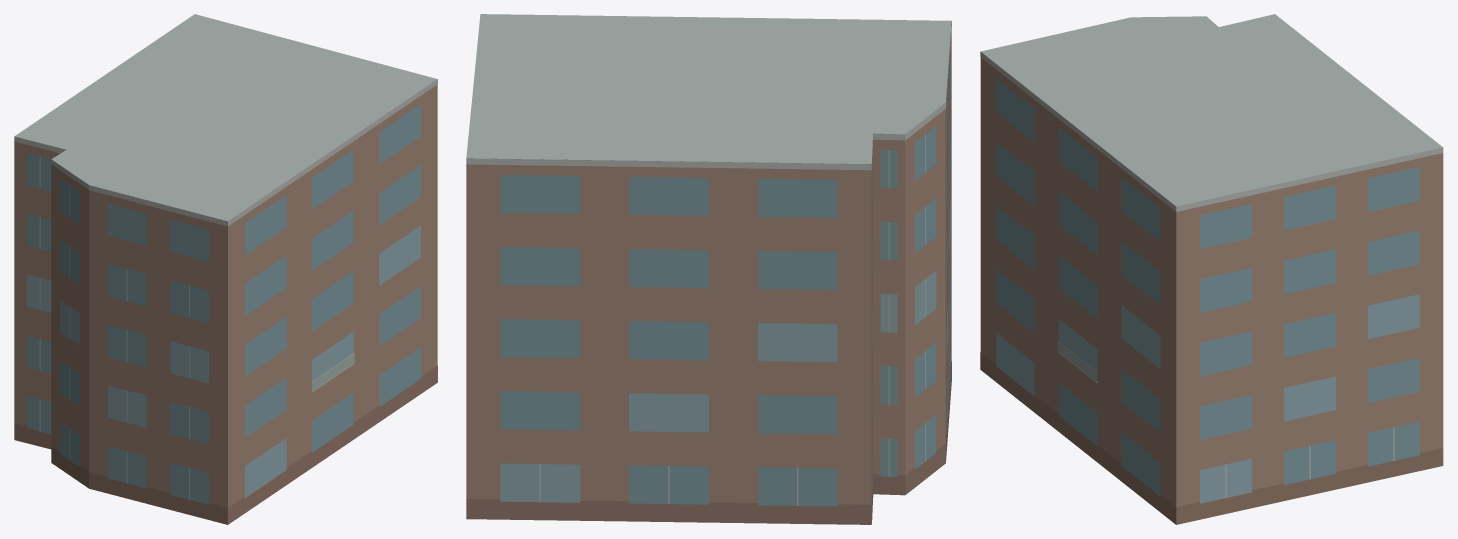
File: survey-upis-32745861.glb
3 renders of one model, left to right at view 1: azimuth 30°, elevation 25°; view 2: azimuth 150°, elevation 25°; view 3: azimuth 270°, elevation 25°, orthographic. The views are drawn at different scales.
Parts seen in each view (by area): view 1: survey-upis-32745861.tmp; view 2: survey-upis-32745861.tmp; view 3: survey-upis-32745861.tmp.
Boxes of the visible parts, x1=… form: survey-upis-32745861.tmp: x1=14, y1=14, x2=437, y2=524; survey-upis-32745861.tmp: x1=466, y1=14, x2=951, y2=524; survey-upis-32745861.tmp: x1=980, y1=14, x2=1443, y2=524.
Size of the model in its own units: 18.7 by 14.4 by 18.99.
